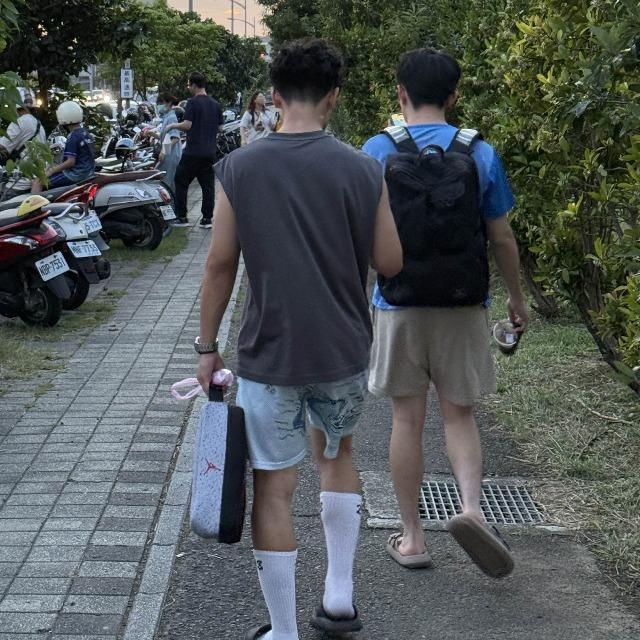NoHelmet: (271, 34, 343, 129), (393, 45, 462, 121)
NoVest: (215, 137, 380, 376)
